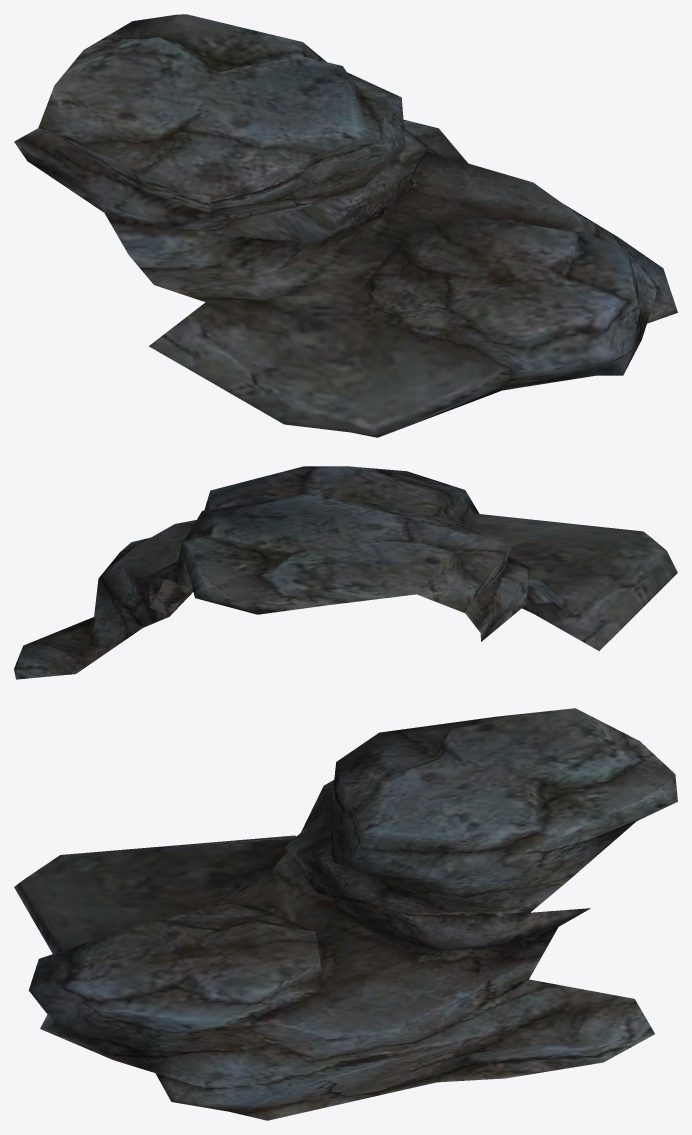
Rendered from S_Rock_Yellow034_H46.FBX.
3 views of the same model, one above another, from view 1: azimuth 30°, elevation 25°; view 2: azimuth 150°, elevation 25°; view 3: azimuth 270°, elevation 25° (orthographic).
Parts seen in each view (by area): view 1: S_Rock_Yellow034_H46; view 2: S_Rock_Yellow034_H46; view 3: S_Rock_Yellow034_H46.
Part boxes in pixels (x1,y1,x2,y2): S_Rock_Yellow034_H46: [14, 14, 677, 437]; S_Rock_Yellow034_H46: [14, 466, 677, 679]; S_Rock_Yellow034_H46: [14, 708, 677, 1120].
Bounding box in the file's own units: 765 × 860 × 275.
Materials: 1 (1 with a texture image).
